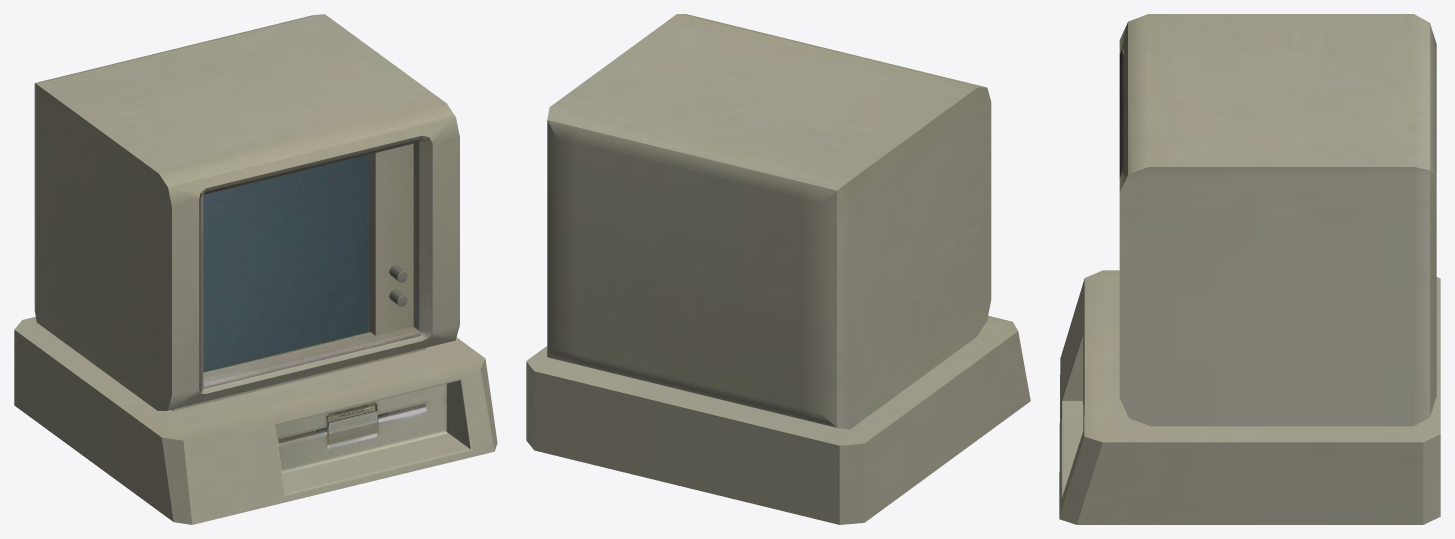
Rendered from ComputerMesh.fbx.
3 views of the same model, side by side, from view 1: azimuth 30°, elevation 25°; view 2: azimuth 150°, elevation 25°; view 3: azimuth 270°, elevation 25° (orthographic). The views are drawn at different scales.
Parts seen in each view (by area): view 1: pCube2, pCube1, pCube3; view 2: pCube2, pCube1; view 3: pCube2, pCube1.
Part boxes in pixels (box(x1,y1,x2,y2)): pCube2: box(34, 14, 459, 410); pCube1: box(14, 317, 497, 524); pCube3: box(172, 348, 425, 410); pCube2: box(547, 14, 991, 429); pCube1: box(526, 316, 1030, 524); pCube2: box(1119, 14, 1436, 426); pCube1: box(1059, 270, 1440, 524).
Bounding box in the file's own units: 1.14 × 1.08 × 1.07.
Materials: 1 (1 with a texture image).
